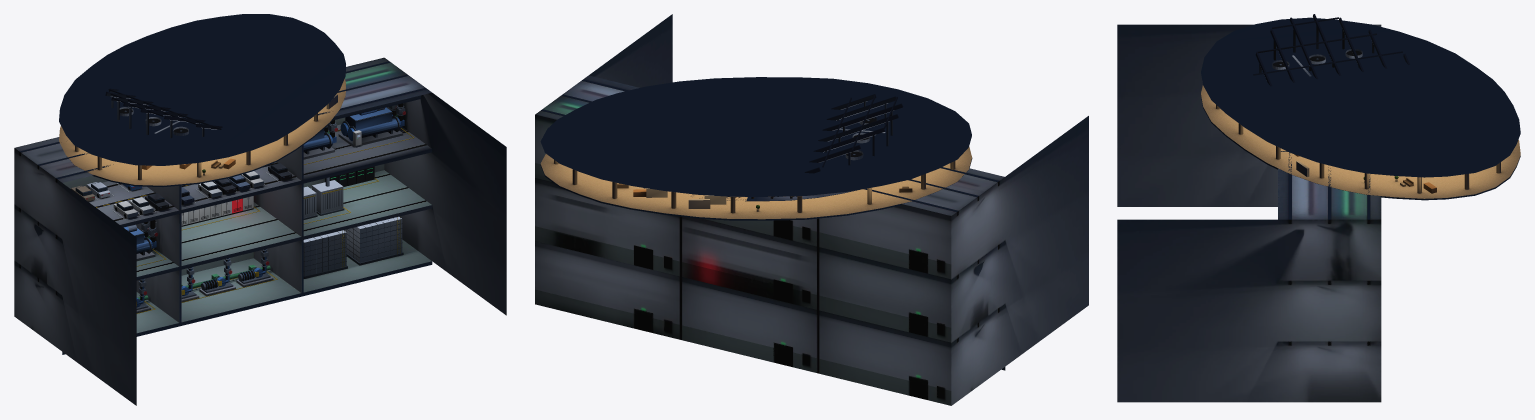
Rendered from tower_S.glb.
3 views of the same model, side by side, from view 1: azimuth 30°, elevation 25°; view 2: azimuth 150°, elevation 25°; view 3: azimuth 270°, elevation 25° (orthographic). The views are drawn at different scales.
Visible parts, largest first — view 1: basement, lobby_v, basement_v, lobby, retail_v, roof_v; view 2: basement, lobby_v, lobby, basement_v, retail_v, roof_v; view 3: basement, lobby_v, lobby, retail_v, roof_v, basement_v.
Boxes of the visible parts, x1,y1,x2,y2 form: basement: [14, 57, 506, 405]; lobby_v: [59, 14, 345, 186]; basement_v: [19, 61, 432, 354]; lobby: [59, 78, 345, 185]; retail_v: [129, 18, 337, 169]; roof_v: [105, 88, 222, 138]; basement: [535, 14, 1088, 405]; lobby_v: [540, 77, 972, 220]; lobby: [540, 146, 971, 219]; basement_v: [541, 79, 1005, 399]; retail_v: [581, 113, 947, 208]; roof_v: [746, 94, 903, 201]; basement: [1117, 24, 1381, 402]; lobby_v: [1201, 17, 1520, 200]; lobby: [1201, 85, 1520, 198]; retail_v: [1222, 42, 1520, 193]; roof_v: [1253, 14, 1409, 86]; basement_v: [1288, 152, 1370, 345].
Bounding box in the file's own units: 89.5 × 50.98 × 78.22.
18 materials, 17 textured.
